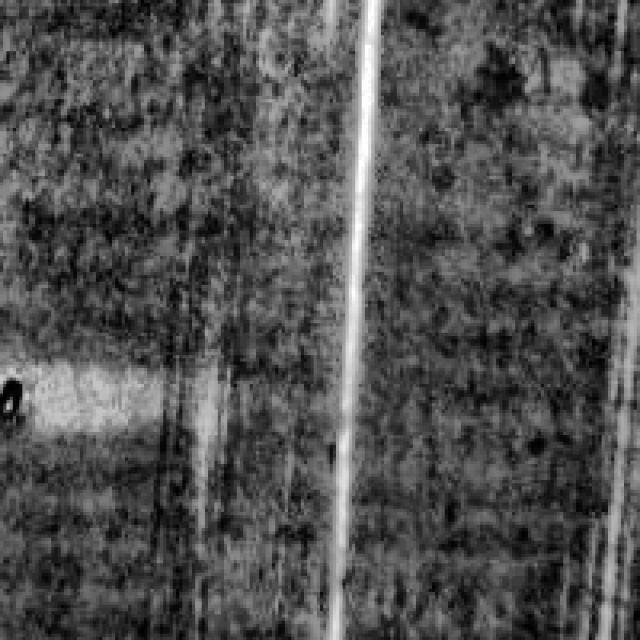Inclusion: (316, 0, 378, 624)
